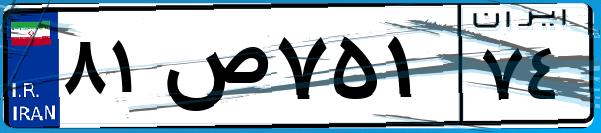1: (385, 28, 445, 110), (110, 28, 158, 98)
4: (525, 38, 570, 115)
5: (330, 28, 385, 110)
7: (270, 28, 330, 110), (475, 38, 525, 113)
8: (57, 26, 110, 100)
ص: (158, 20, 270, 120)
